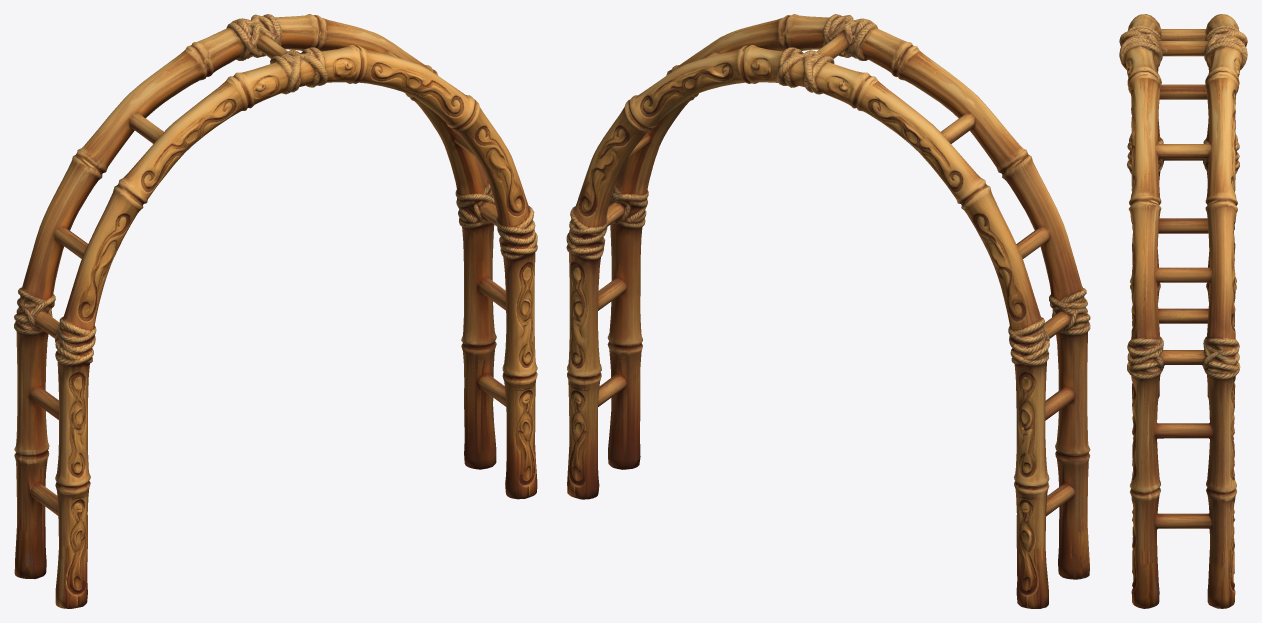
File: Ropebound_Bamboo_Arch.fbx
3 views of the same model, side by side, from view 1: azimuth 30°, elevation 25°; view 2: azimuth 150°, elevation 25°; view 3: azimuth 270°, elevation 25° (orthographic). The views are drawn at different scales.
Visible parts, largest first — view 1: Ropebound_Bamboo_Arch_LOD0; view 2: Ropebound_Bamboo_Arch_LOD0; view 3: Ropebound_Bamboo_Arch_LOD0.
Part boxes in pixels (x1,y1,x2,y2): Ropebound_Bamboo_Arch_LOD0: (14, 14, 537, 608); Ropebound_Bamboo_Arch_LOD0: (566, 14, 1090, 608); Ropebound_Bamboo_Arch_LOD0: (1119, 14, 1247, 608).
Size of what is drawn, in the model's own units: 1.9 by 1.89 by 0.4698.
Materials: 1 (1 with a texture image).
